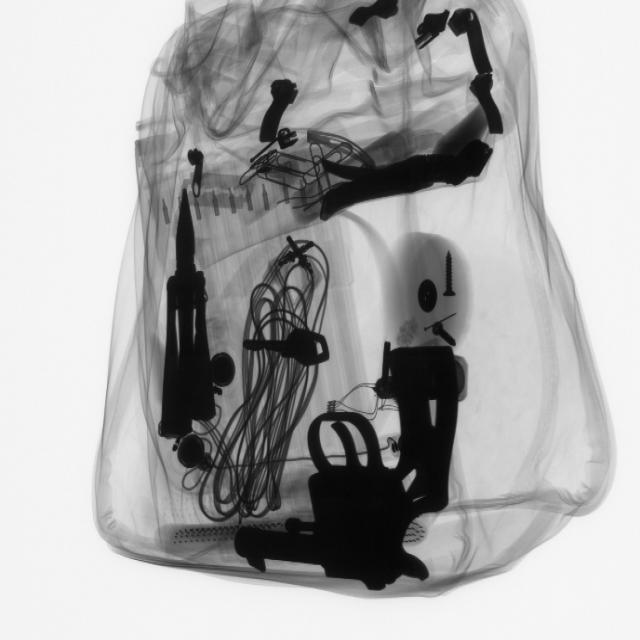GUN: (231, 396, 464, 590)
KNIFE: (159, 167, 215, 424)
SCREW: (423, 307, 475, 357), (437, 243, 476, 308)
